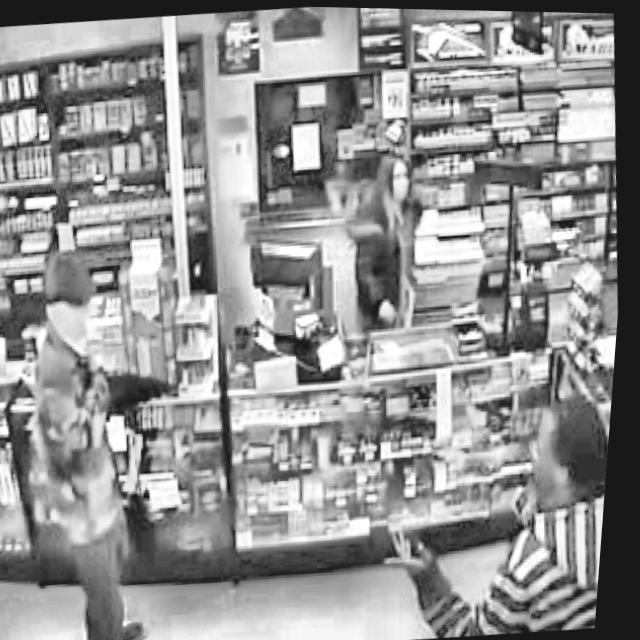robbery: (0, 234, 225, 640)
